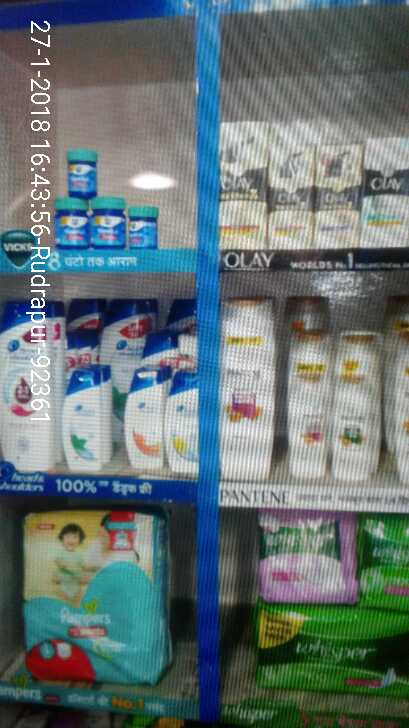vicks: (56, 141, 160, 252)
